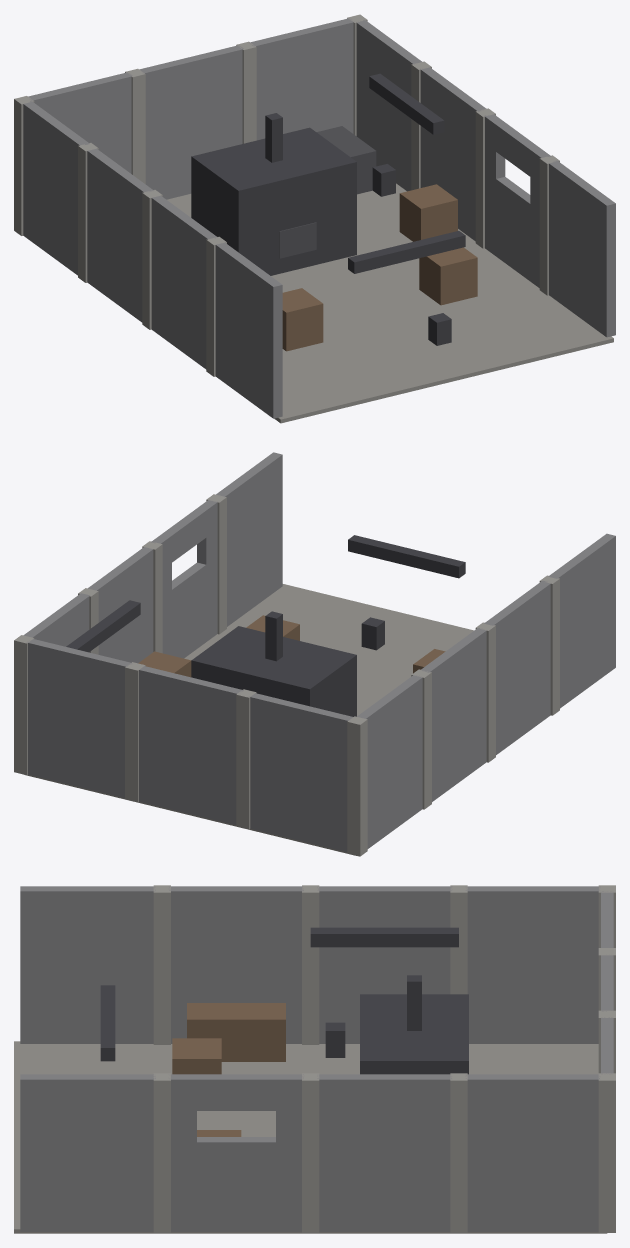
File: INT_Boiler.glb
The picture shows the model from 3 angles, top to bottom: view 1: azimuth 30°, elevation 25°; view 2: azimuth 150°, elevation 25°; view 3: azimuth 270°, elevation 25°; orthographic projection. The views are drawn at different scales.
Parts seen in each view (by area): view 1: INT_Boiler_Prop_Boiler_01, INT_Boiler_WallB_Solid_09, INT_Boiler_WallB_Solid_10, INT_Boiler_WallB_Solid_01, INT_Boiler_WallB_Solid_05, INT_Boiler_WallB_Solid_03, INT_Boiler_WallB_Solid_02, INT_Boiler_WallB_Solid_04, INT_Boiler_WallB_WindowHigh_01, INT_Boiler_Floor_Tile_09, INT_Boiler_Floor_Tile_05, INT_Boiler_WallB_Solid_06 (+26 smaller); view 2: INT_Boiler_WallB_Solid_09, INT_Boiler_WallB_Solid_08, INT_Boiler_WallB_Solid_10, INT_Boiler_Prop_Boiler_01, INT_Boiler_WallB_Solid_01, INT_Boiler_WallB_Solid_05, INT_Boiler_WallB_Solid_04, INT_Boiler_WallB_Solid_02, INT_Boiler_WallB_Solid_03, INT_Boiler_WallB_WindowHigh_01, INT_Boiler_Floor_Tile_09, INT_Boiler_WallB_Solid_06 (+16 smaller); view 3: INT_Boiler_WallB_Solid_05, INT_Boiler_WallB_Solid_07, INT_Boiler_WallB_Solid_06, INT_Boiler_WallB_Solid_04, INT_Boiler_WallB_Solid_01, INT_Boiler_WallB_WindowHigh_01, INT_Boiler_WallB_Solid_02, INT_Boiler_WallB_Solid_03, INT_Boiler_Prop_Boiler_01, INT_Boiler_Prop_Workbench_01, INT_Boiler_Floor_Tile_01, INT_Boiler_Floor_Tile_04 (+19 smaller).
Boxes of the visible parts, x1=… form: INT_Boiler_Prop_Boiler_01: x1=191, y1=113, x2=356, y2=275; INT_Boiler_WallB_Solid_09: x1=139, y1=45, x2=243, y2=199; INT_Boiler_WallB_Solid_10: x1=249, y1=18, x2=353, y2=140; INT_Boiler_WallB_Solid_01: x1=215, y1=242, x2=282, y2=418; INT_Boiler_WallB_Solid_05: x1=549, y1=160, x2=615, y2=337; INT_Boiler_WallB_Solid_03: x1=87, y1=148, x2=153, y2=322; INT_Boiler_WallB_Solid_02: x1=151, y1=195, x2=217, y2=369; INT_Boiler_WallB_Solid_04: x1=23, y1=101, x2=89, y2=275; INT_Boiler_WallB_WindowHigh_01: x1=484, y1=114, x2=551, y2=287; INT_Boiler_Floor_Tile_09: x1=448, y1=293, x2=613, y2=369; INT_Boiler_Floor_Tile_05: x1=328, y1=321, x2=502, y2=396; INT_Boiler_WallB_Solid_06: x1=420, y1=67, x2=486, y2=241; INT_Boiler_WallB_Solid_09: x1=139, y1=666, x2=243, y2=825; INT_Boiler_WallB_Solid_08: x1=249, y1=693, x2=353, y2=852; INT_Boiler_WallB_Solid_10: x1=26, y1=639, x2=132, y2=797; INT_Boiler_Prop_Boiler_01: x1=191, y1=611, x2=356, y2=716; INT_Boiler_WallB_Solid_01: x1=548, y1=533, x2=615, y2=708; INT_Boiler_WallB_Solid_05: x1=216, y1=452, x2=282, y2=626; INT_Boiler_WallB_Solid_04: x1=357, y1=675, x2=422, y2=848; INT_Boiler_WallB_Solid_02: x1=484, y1=580, x2=550, y2=754; INT_Boiler_WallB_Solid_03: x1=421, y1=628, x2=486, y2=801; INT_Boiler_WallB_WindowHigh_01: x1=151, y1=500, x2=217, y2=658; INT_Boiler_Floor_Tile_09: x1=223, y1=584, x2=391, y2=649; INT_Boiler_WallB_Solid_06: x1=88, y1=547, x2=153, y2=663; INT_Boiler_WallB_Solid_05: x1=20, y1=1074, x2=155, y2=1231; INT_Boiler_WallB_Solid_07: x1=465, y1=1074, x2=600, y2=1231; INT_Boiler_WallB_Solid_06: x1=317, y1=1074, x2=451, y2=1231; INT_Boiler_WallB_Solid_04: x1=465, y1=886, x2=600, y2=1043; INT_Boiler_WallB_Solid_01: x1=20, y1=886, x2=155, y2=1043; INT_Boiler_WallB_WindowHigh_01: x1=169, y1=1074, x2=303, y2=1231; INT_Boiler_WallB_Solid_02: x1=169, y1=886, x2=303, y2=1043; INT_Boiler_WallB_Solid_03: x1=317, y1=886, x2=452, y2=1043; INT_Boiler_Prop_Boiler_01: x1=360, y1=975, x2=468, y2=1074; INT_Boiler_Prop_Workbench_01: x1=187, y1=1003, x2=285, y2=1061; INT_Boiler_Floor_Tile_01: x1=14, y1=1041, x2=162, y2=1103; INT_Boiler_Floor_Tile_04: x1=469, y1=1044, x2=598, y2=1074.
Bounding box in the file's own units: 9.35 × 3.6 × 12.17.
